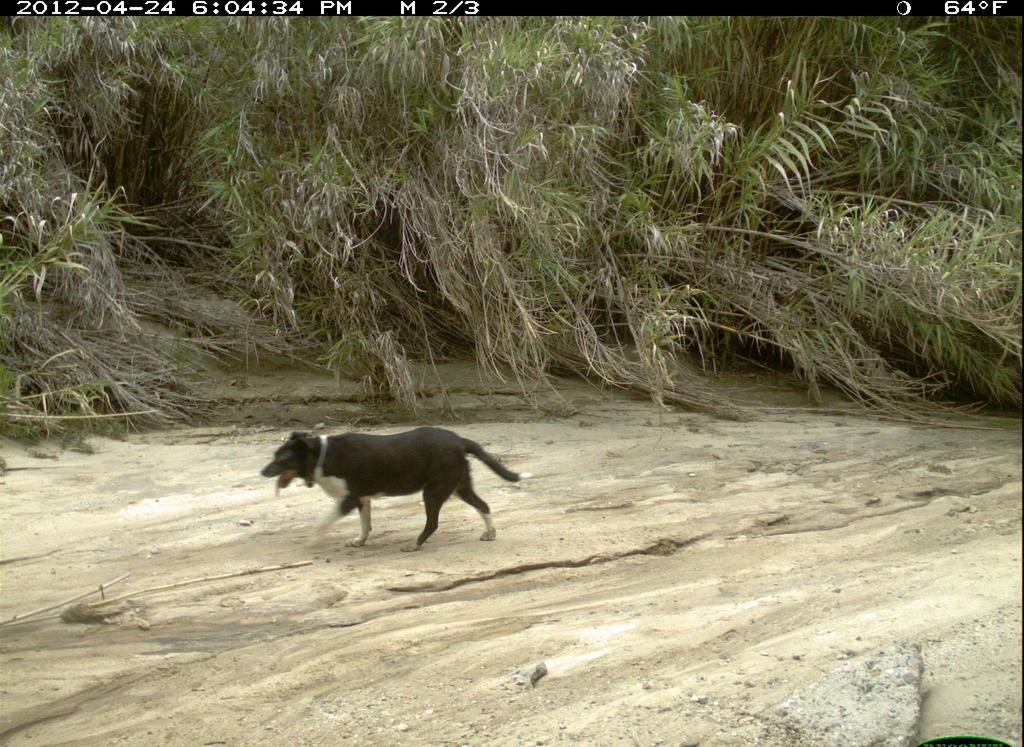dog: (254, 415, 539, 564)
